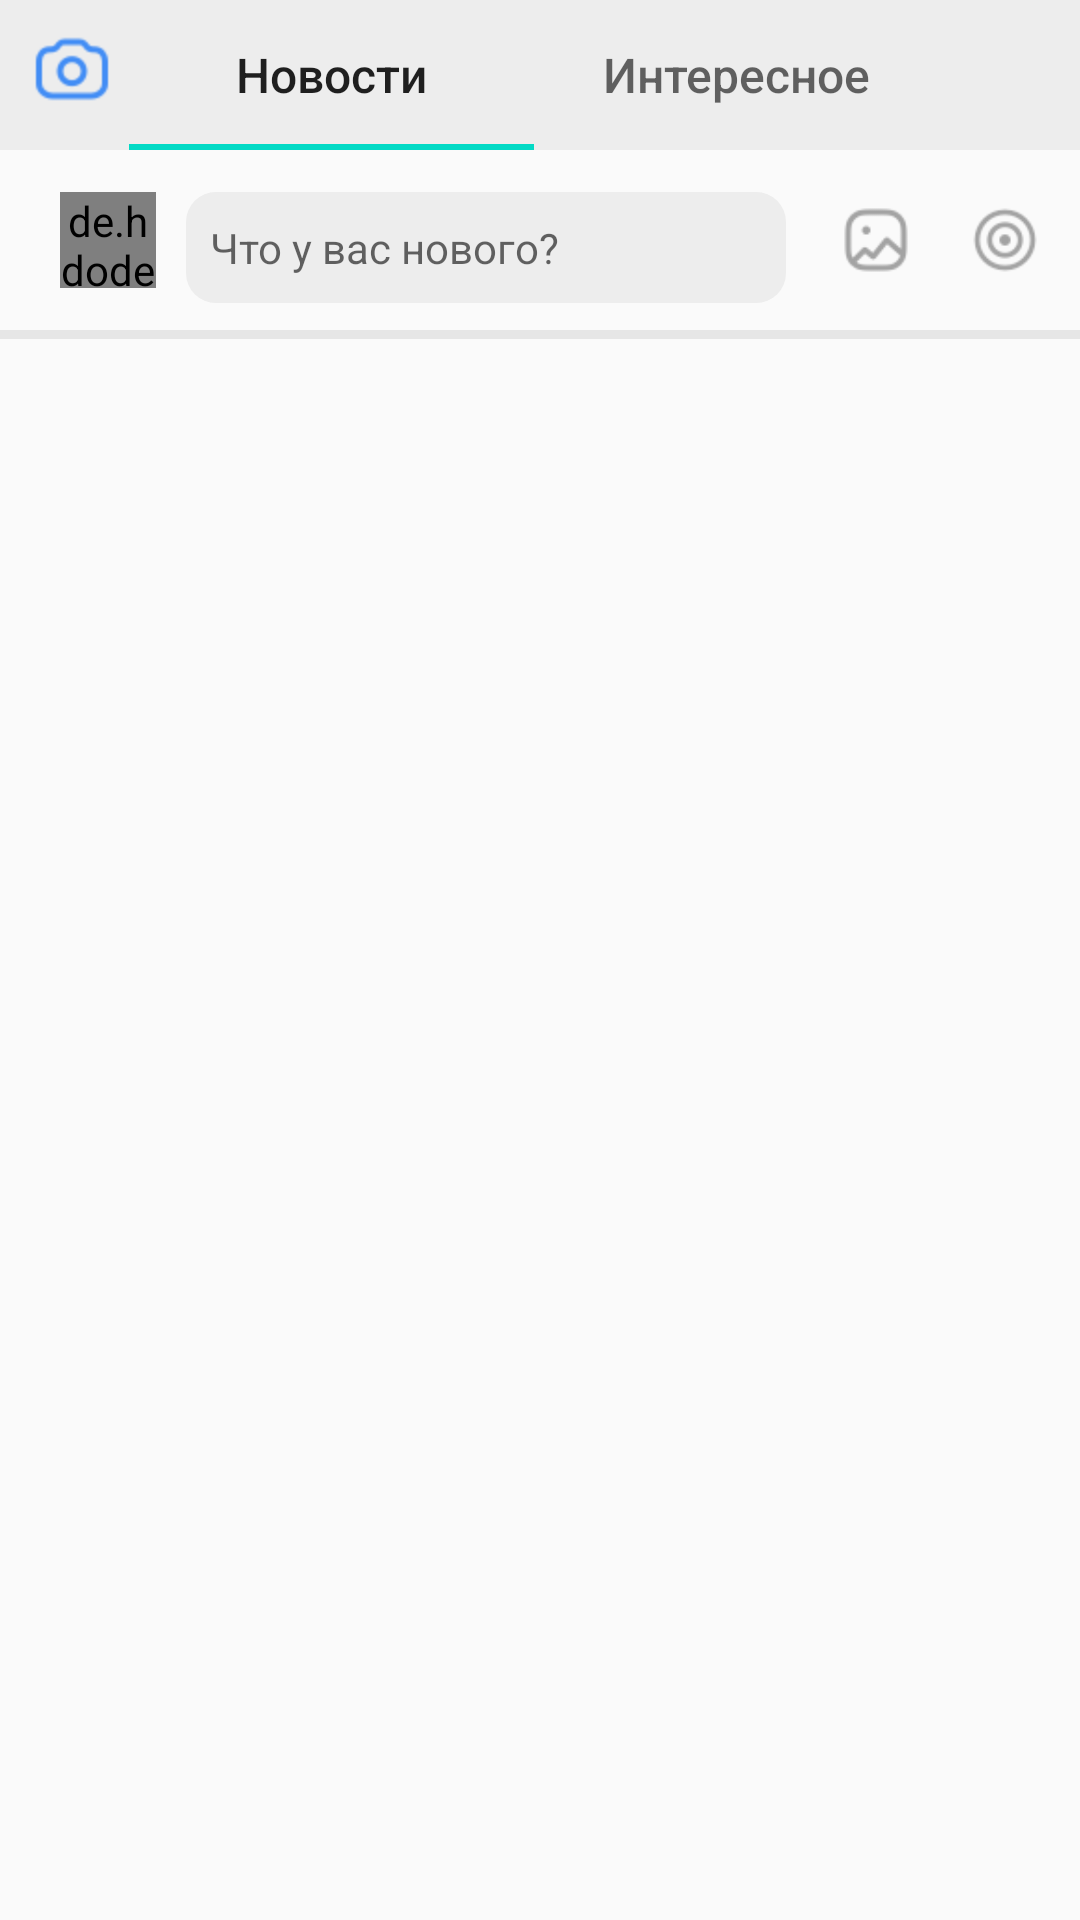

Where to tap for icons on this 1080x1920 app screen, as [x,y]:
camera: [72,69]
live: [1005,240]
